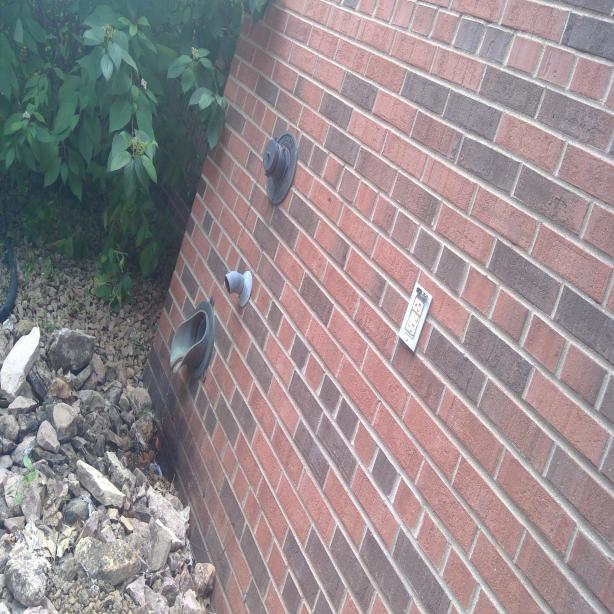typeb: (407, 319, 415, 338), (414, 297, 422, 315)
